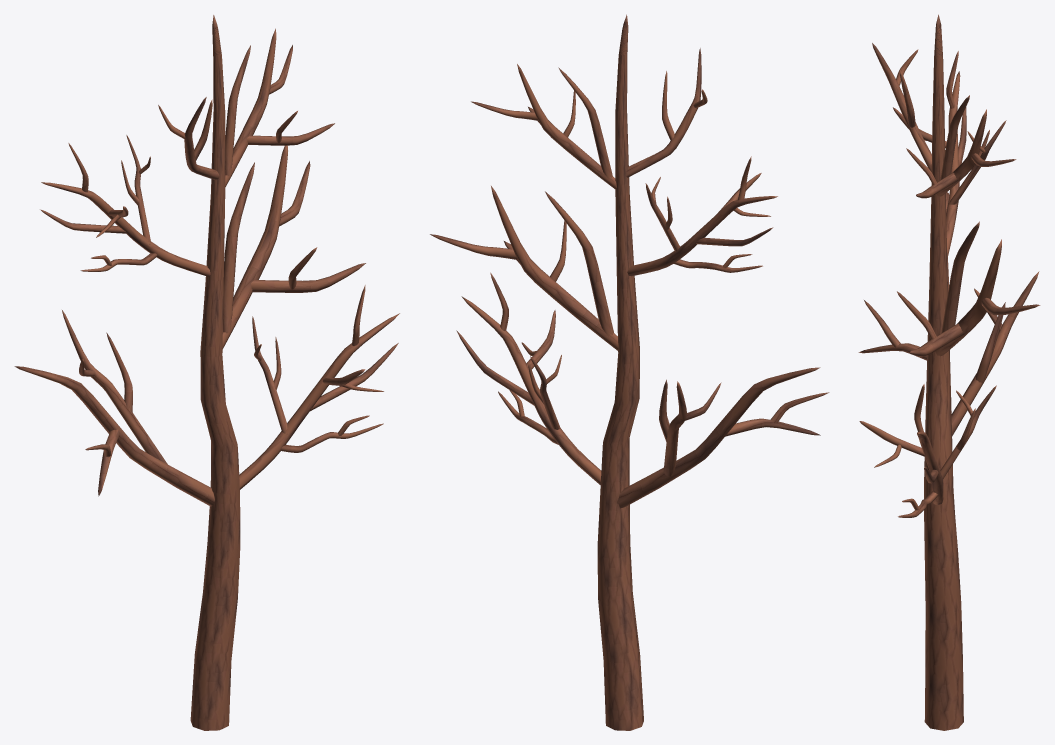
The model's file is DeadTree_2.glb.
The picture shows the model from 3 angles, left to right: view 1: azimuth 30°, elevation 25°; view 2: azimuth 150°, elevation 25°; view 3: azimuth 270°, elevation 25°; orthographic projection.
Visible parts, largest first — view 1: DeadTree_2; view 2: DeadTree_2; view 3: DeadTree_2.
Part boxes in pixels (x1,y1,x2,y2): DeadTree_2: (14, 15, 399, 730); DeadTree_2: (430, 14, 829, 730); DeadTree_2: (858, 14, 1040, 730).
Size of the model in its own units: 3.42 by 6.2 by 1.45.
1 material, 1 textured.
